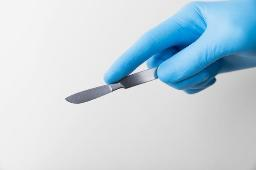scalpel: (64, 66, 160, 104)
